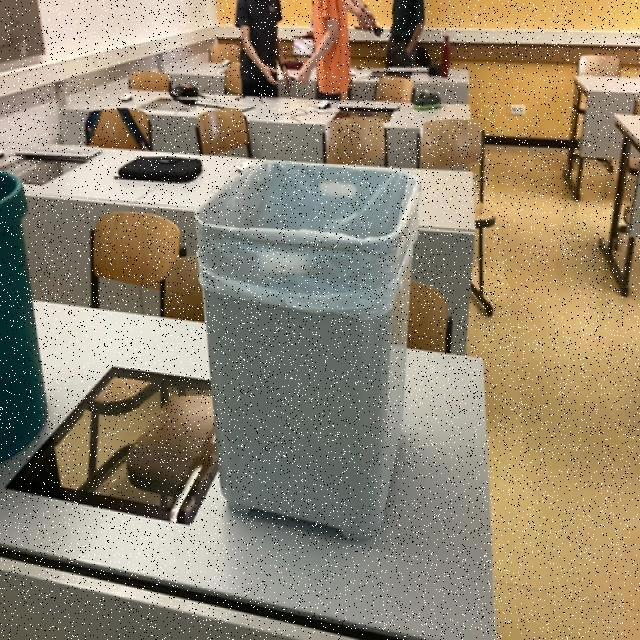garbage container: (174, 129, 435, 555)
